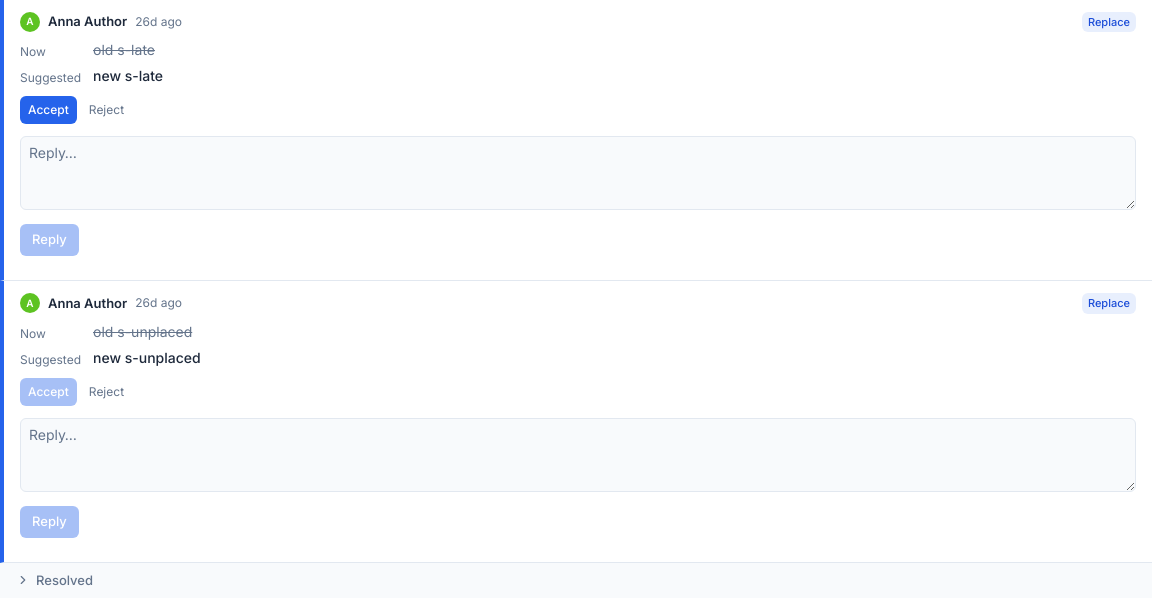
Scenario: SuggestionsPanel › resolved_section_lists_decided
(page scrolled)
Click the button with test id "suggestion-show-resolved". click: (64, 580)
box: [0,562,1151,597]
(page scrolled)
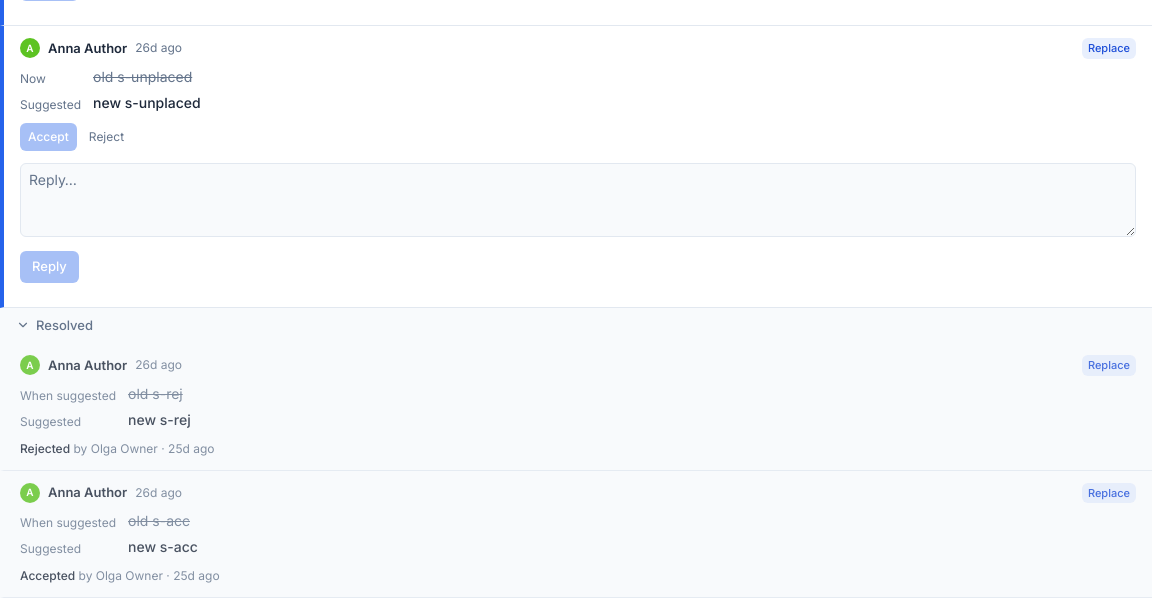
Check: the element with test id "suggestion-card-s-acc" shows "Accepted", box [20,568,75,583]
Check: the element with test id "suggestion-card-s-acc" shows "Olga Owner", box [96,568,163,583]
Check: the element with test id "suggestion-card-s-rej" shows "Rejected", box [20,440,70,456]
